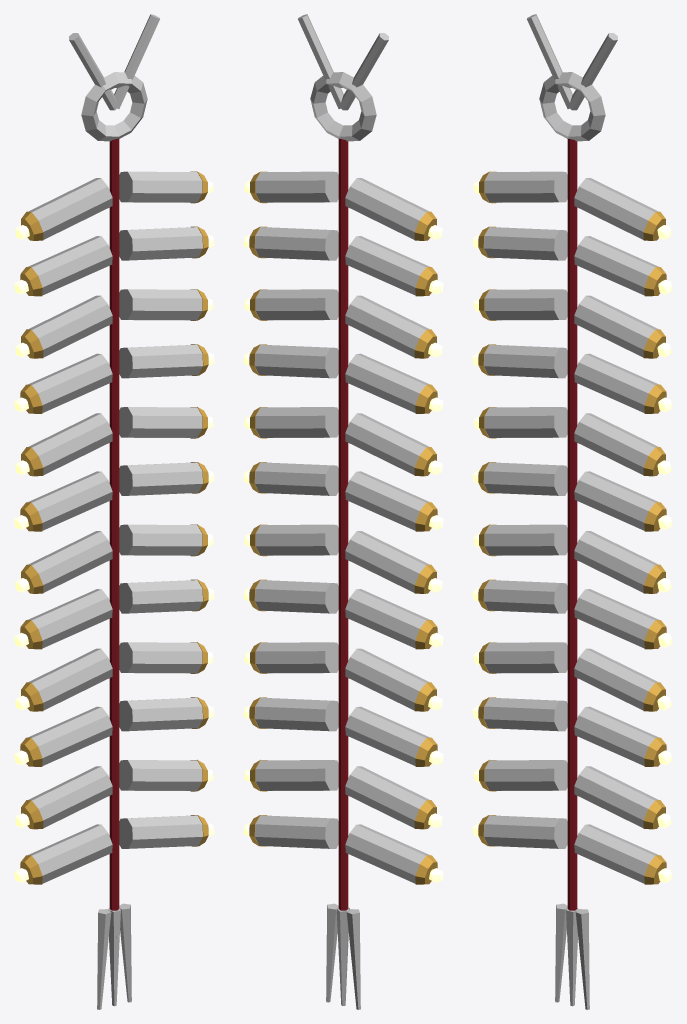
File: ev_firecracker_light_v01.glb
3 renders of one model, left to right at view 1: azimuth 30°, elevation 25°; view 2: azimuth 150°, elevation 25°; view 3: azimuth 330°, elevation 25°, orthographic.
Visible parts, largest first — view 1: firecracker_light; view 2: firecracker_light; view 3: firecracker_light.
Part boxes in pixels (x1,y1,x2,y2): firecracker_light: [14, 14, 214, 1009]; firecracker_light: [243, 14, 443, 1009]; firecracker_light: [472, 14, 672, 1009].
Size of the model in its own units: 0.3884 by 1.83 by 0.058.
